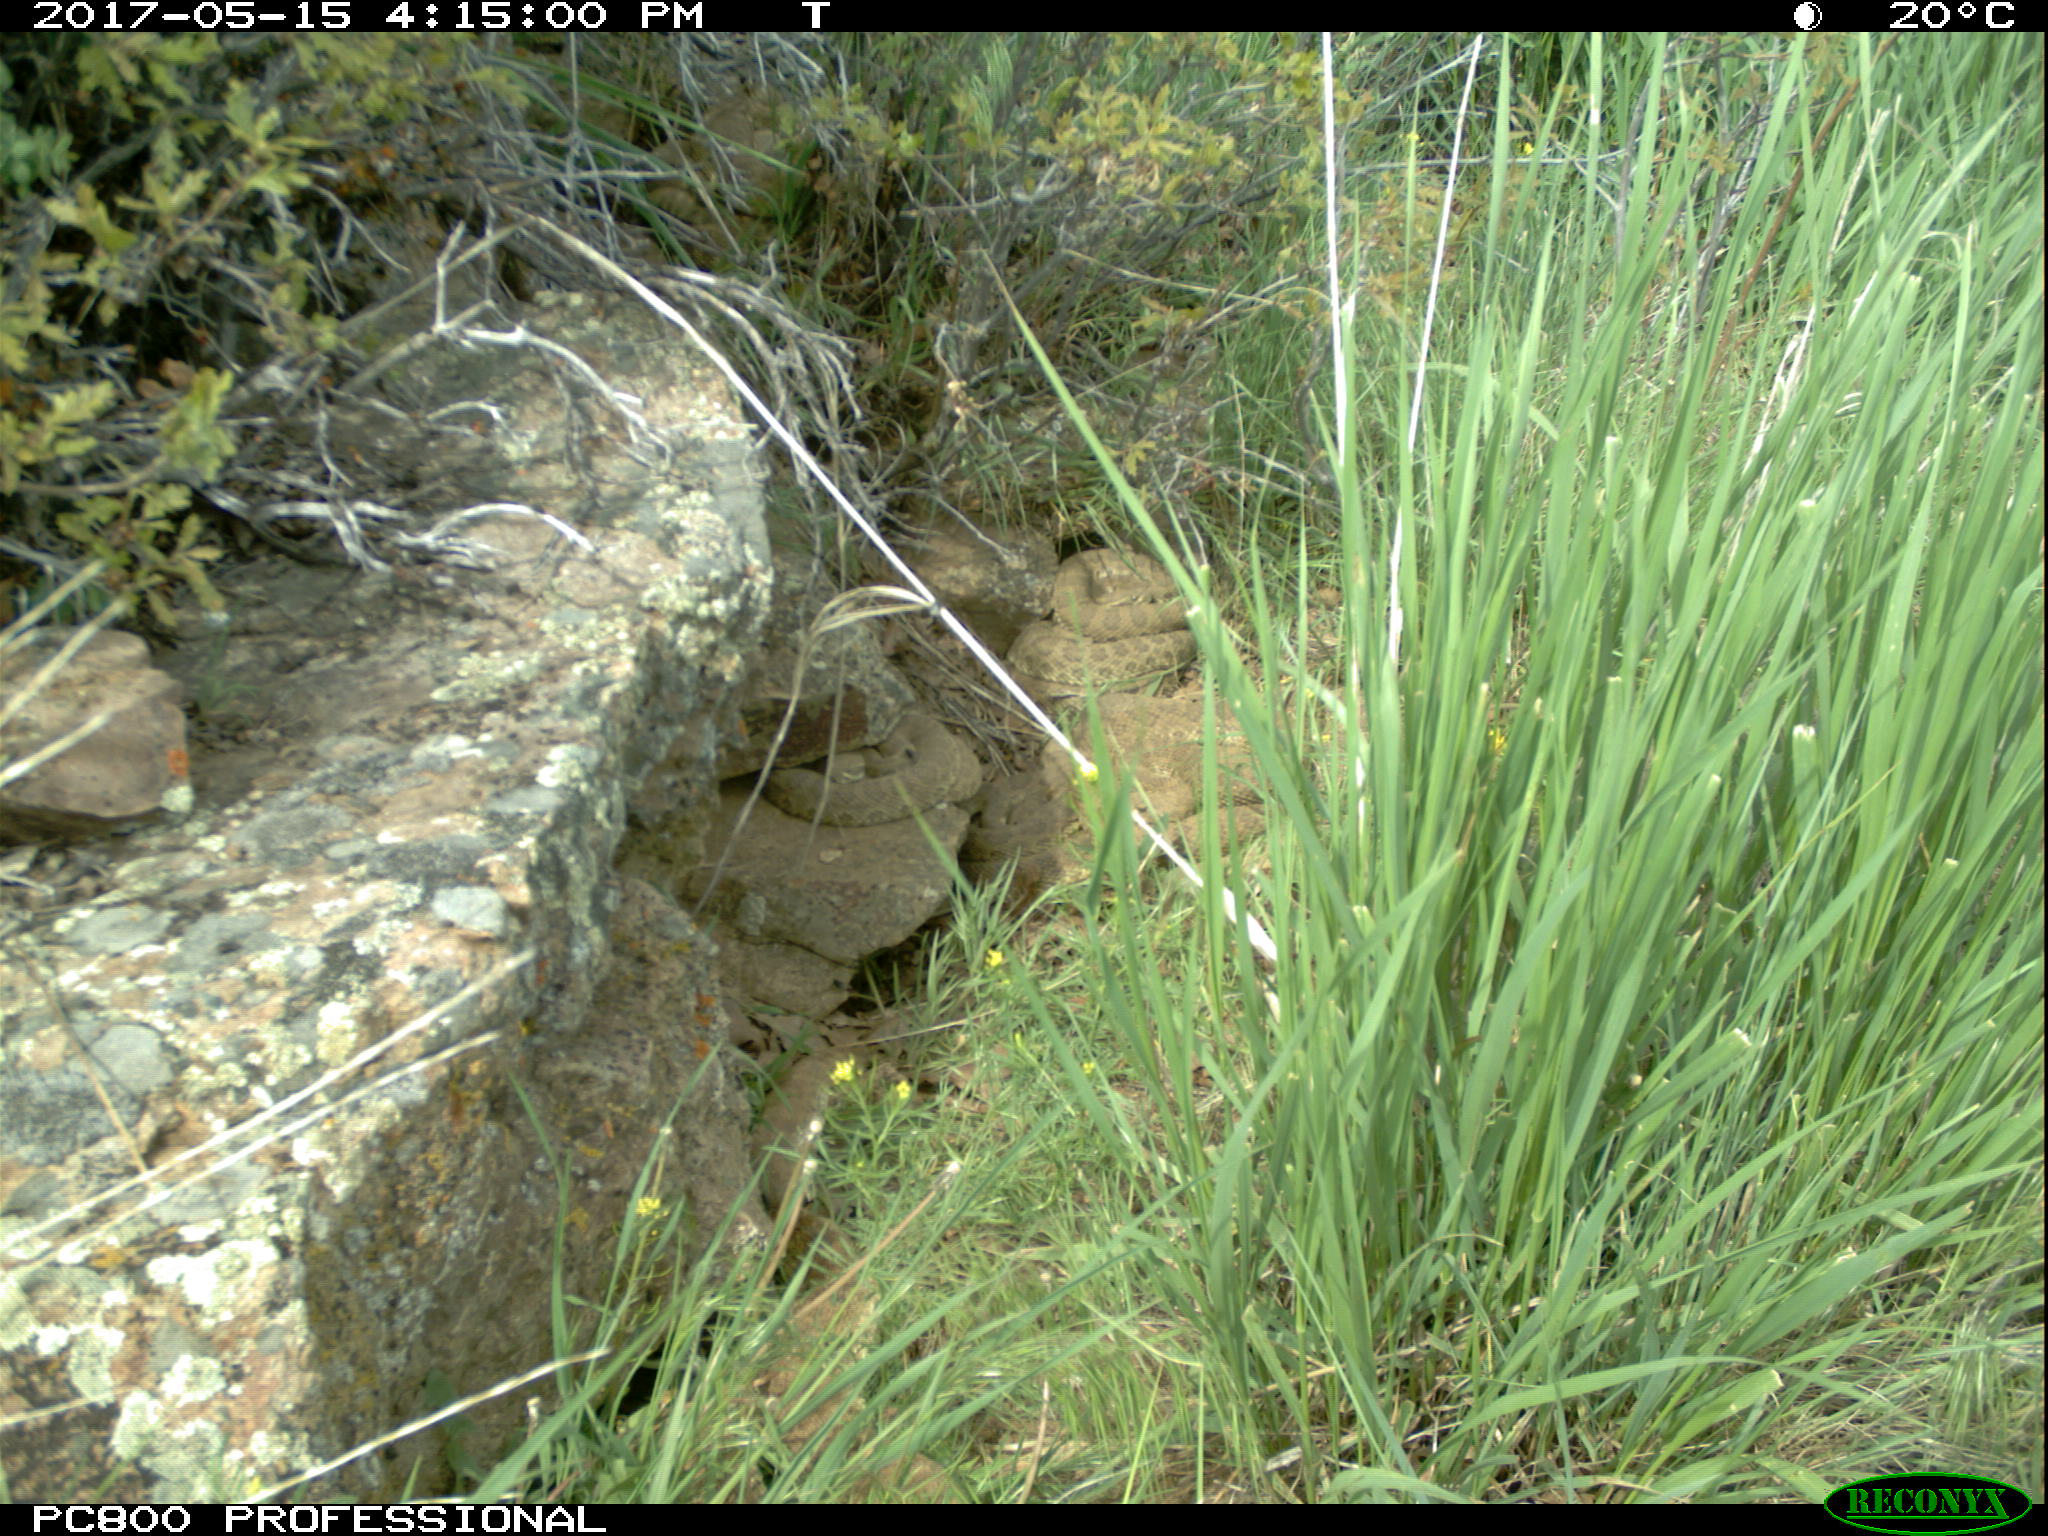snake: (755, 1044, 876, 1497), (1055, 695, 1284, 833), (763, 707, 980, 821), (956, 770, 1101, 900), (861, 528, 1061, 611), (1009, 616, 1206, 692), (1055, 549, 1195, 639)
